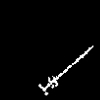treble_crochet: (39, 46, 92, 94)
